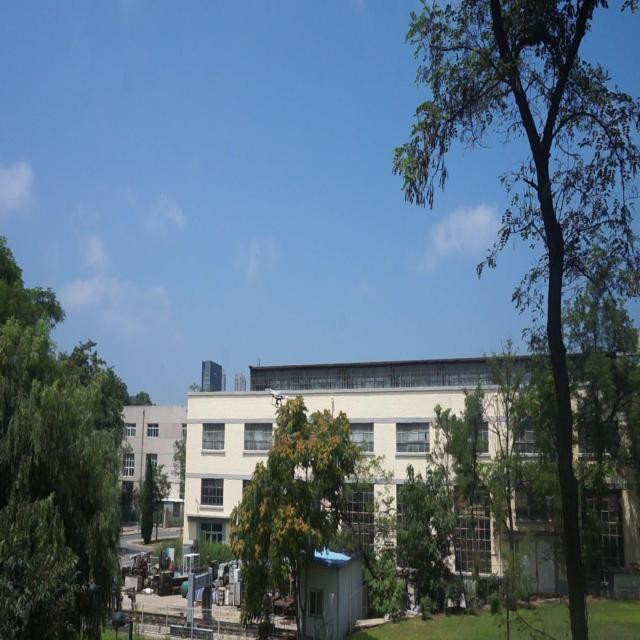UAV: (264, 388, 289, 408)
